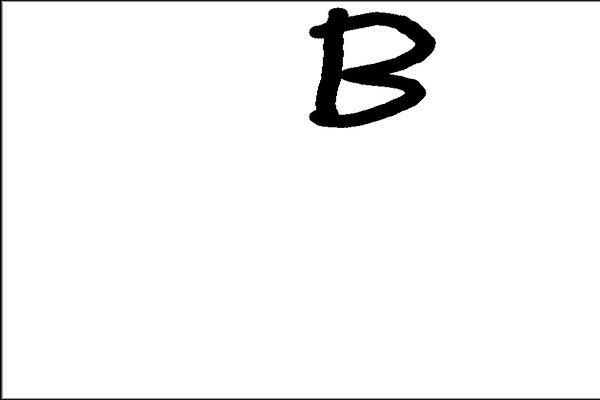B: (302, 2, 441, 135)
